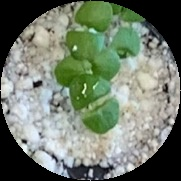Basil: (71, 76, 118, 134), (68, 2, 105, 59), (110, 7, 151, 58), (55, 52, 117, 84)
